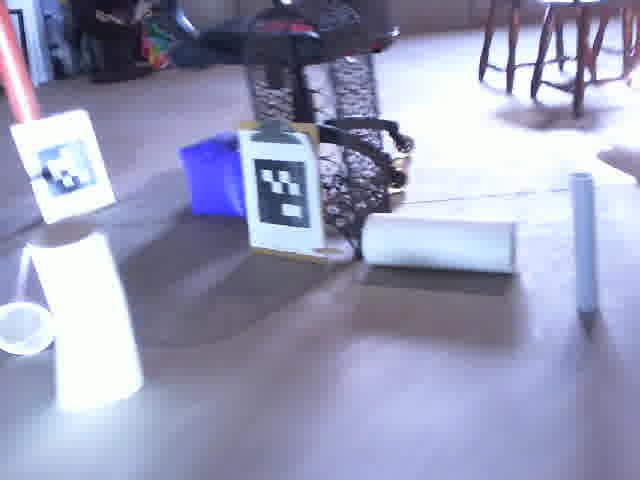coral: (25, 214, 151, 391), (355, 206, 526, 276), (0, 243, 56, 357)
